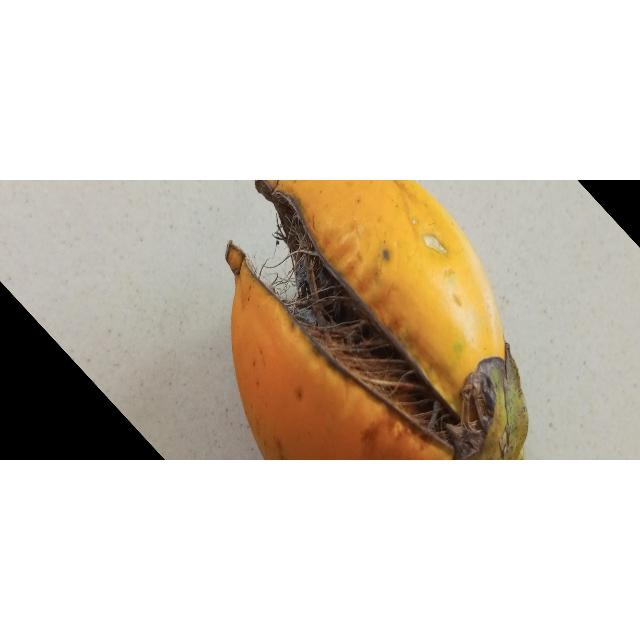damaged: (225, 180, 528, 461), (275, 180, 504, 415)
